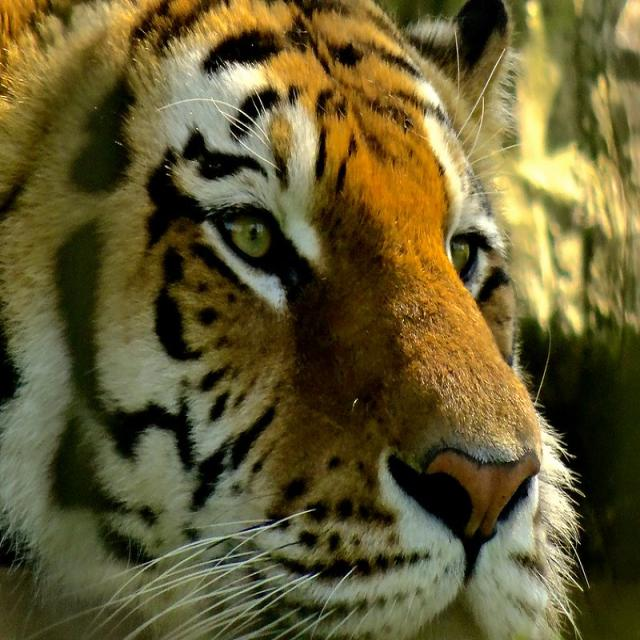Tiger: (9, 3, 604, 633)
